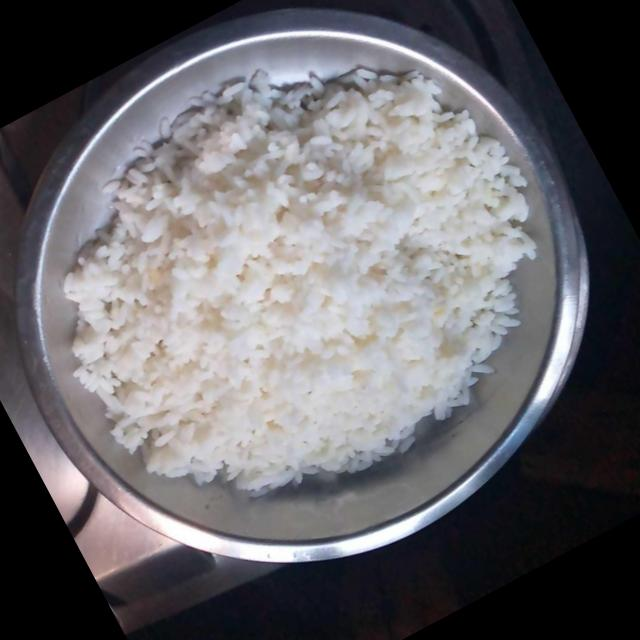rice: (65, 62, 533, 494)
